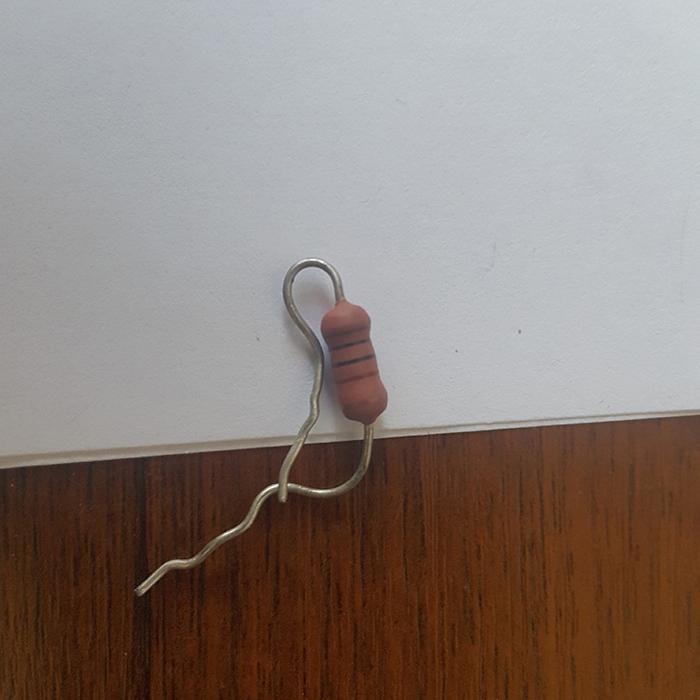resistor: (319, 298, 389, 423)
